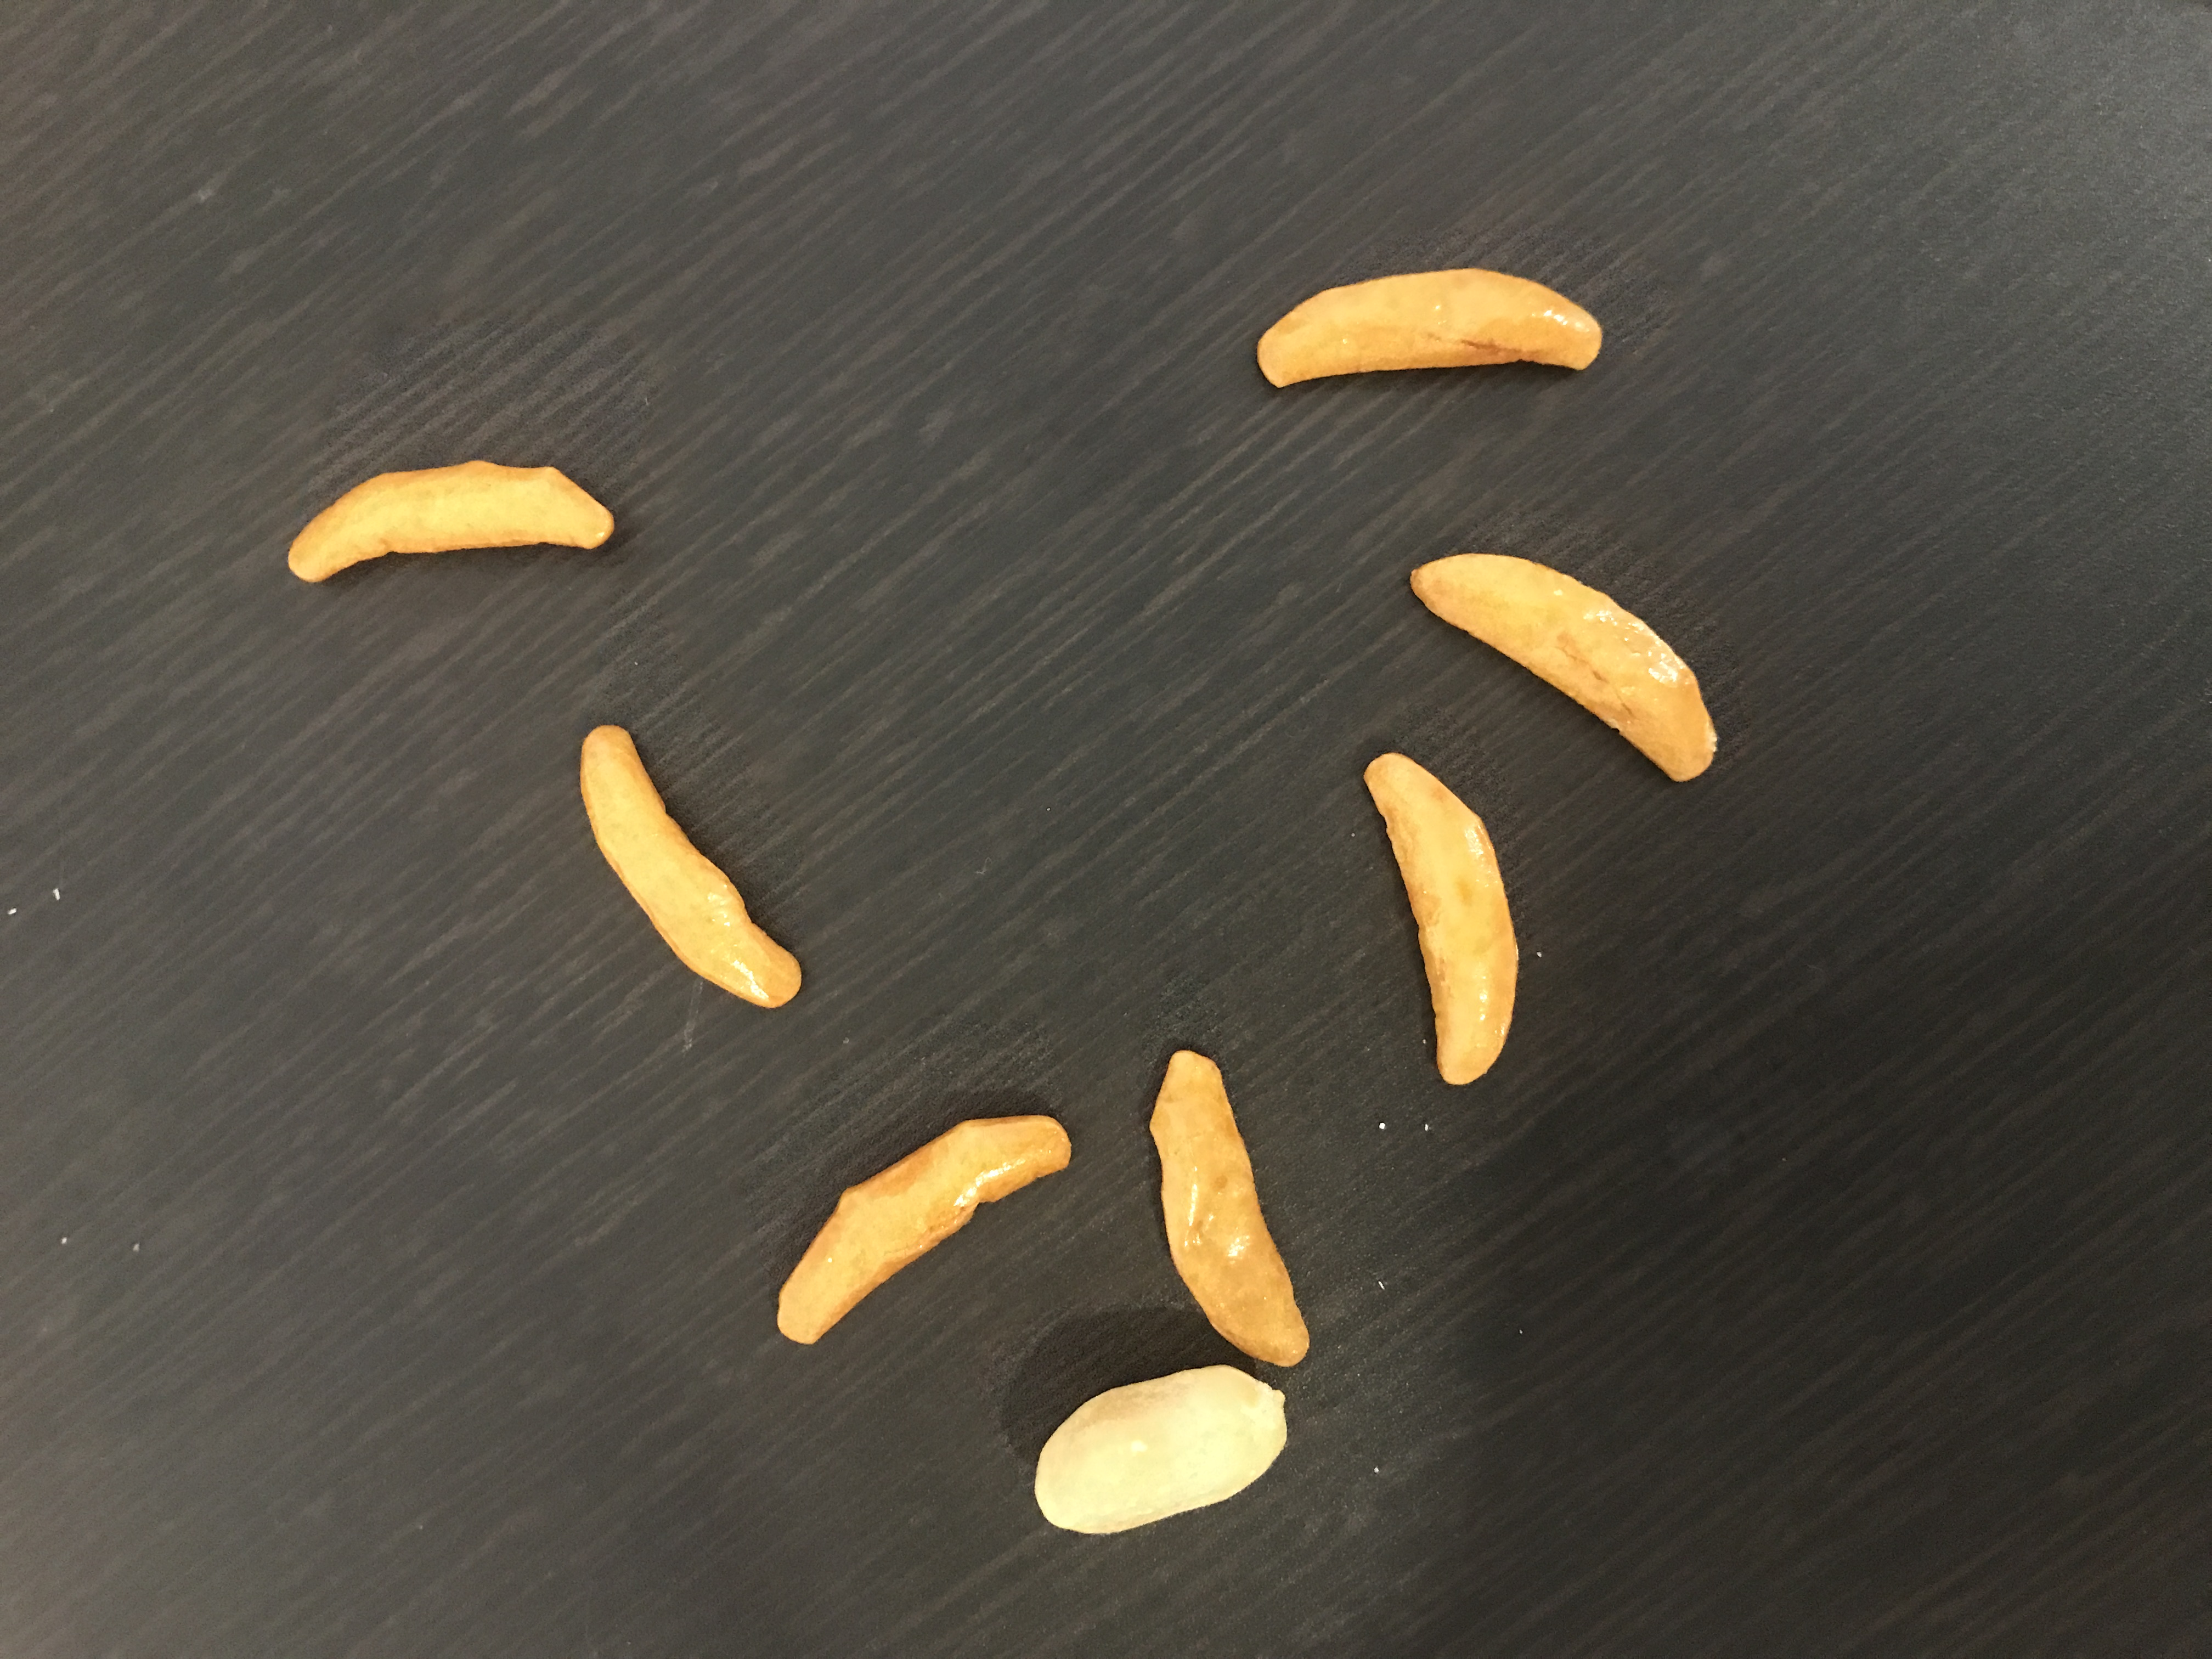peanut: (1026, 1370, 1291, 1542)
